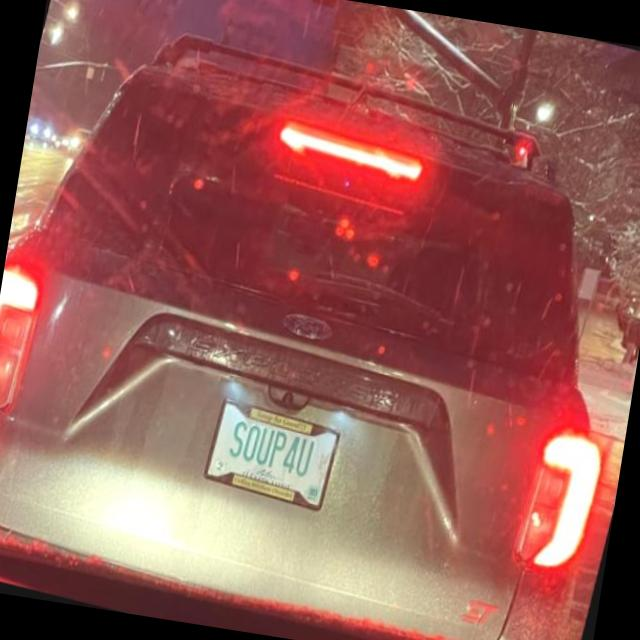LicensePlate: (202, 396, 340, 513)
